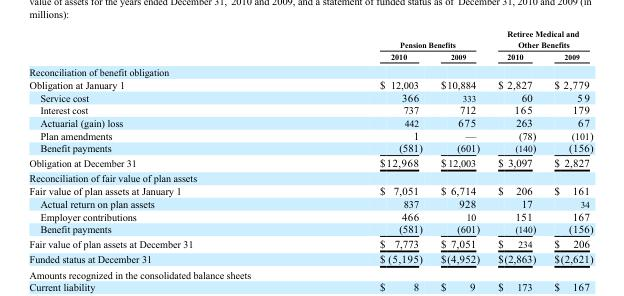table: (28, 28, 592, 264)
table column: (28, 28, 285, 264), (285, 28, 430, 264), (430, 28, 488, 264), (488, 28, 544, 264), (544, 28, 592, 264)
table column header: (28, 28, 592, 63)
table projected row header: (28, 63, 592, 77), (28, 170, 592, 183)
table row: (28, 28, 592, 50), (28, 155, 592, 170), (28, 235, 592, 250), (28, 63, 592, 77), (28, 141, 592, 155), (28, 250, 592, 264), (28, 50, 592, 63), (28, 77, 592, 90), (28, 90, 592, 103), (28, 115, 592, 128), (28, 128, 592, 141), (28, 170, 592, 183), (28, 183, 592, 196), (28, 196, 592, 209), (28, 209, 592, 222), (28, 222, 592, 235), (28, 103, 592, 115)
table spanning cell: (285, 28, 488, 50), (488, 28, 592, 50)
